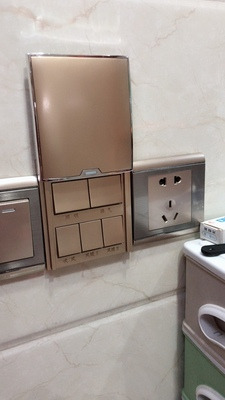switch: (1, 196, 38, 265), (50, 176, 90, 218), (84, 174, 126, 210), (51, 222, 83, 259), (76, 218, 107, 254), (98, 214, 126, 250)
